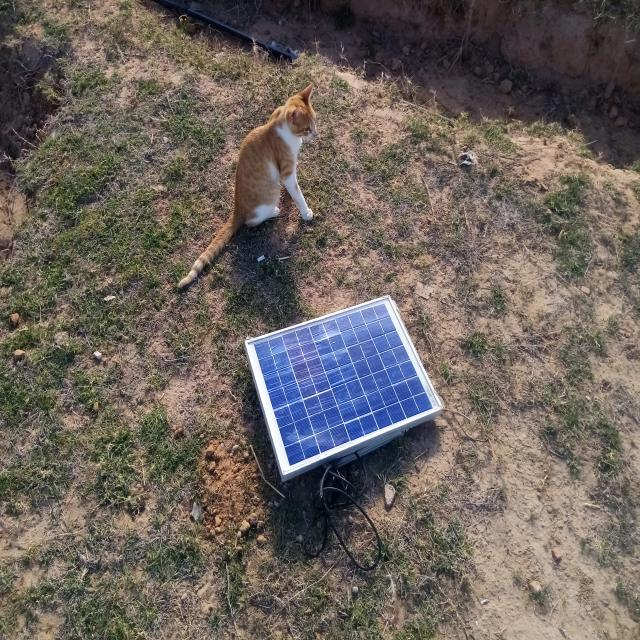no faulty: (244, 293, 443, 477)
